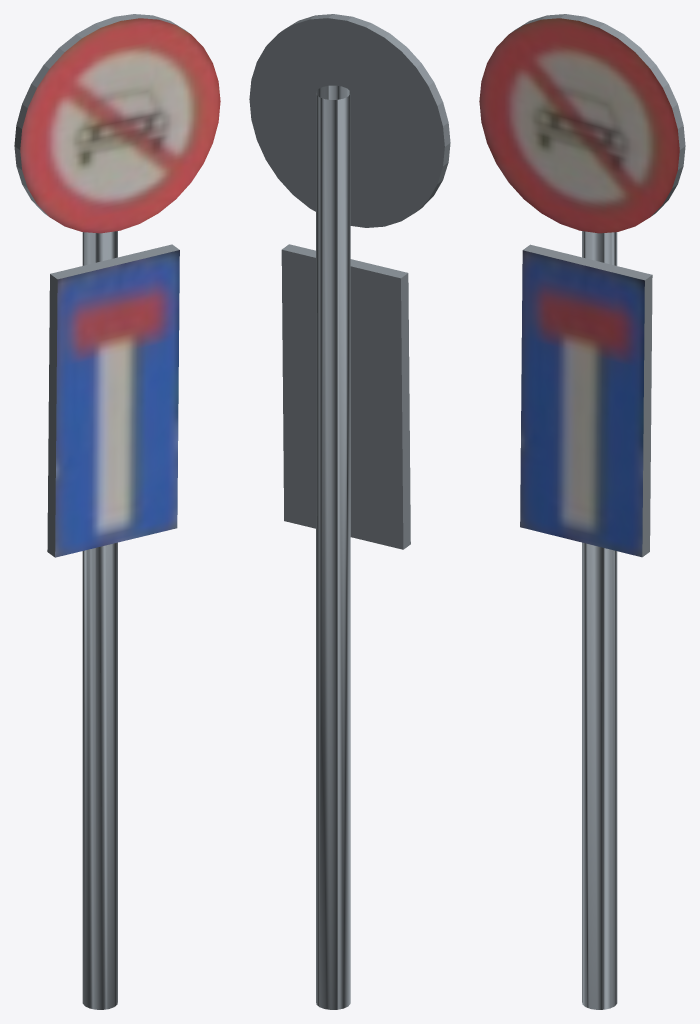
File: Sign16.fbx
3 renders of one model, left to right at view 1: azimuth 30°, elevation 25°; view 2: azimuth 150°, elevation 25°; view 3: azimuth 330°, elevation 25°, orthographic. The views are drawn at different scales.
Visible parts, largest first — view 1: Sign13; view 2: Sign13; view 3: Sign13.
Part boxes in pixels (<box>): Sign13: <box>14,14,220,1009</box>; Sign13: <box>249,14,450,1009</box>; Sign13: <box>479,14,685,1009</box>.
Size of the model in its own units: 0.4777 by 2.27 by 0.1196.
1 material, 1 textured.
